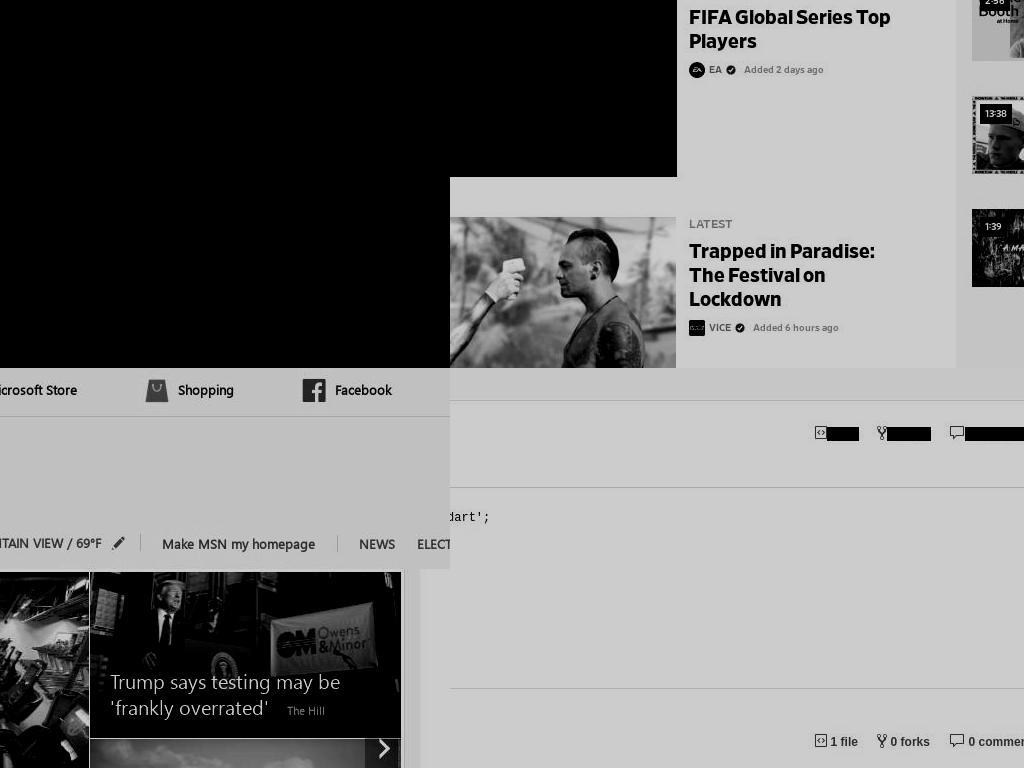button: (89, 572, 401, 739), (450, 0, 677, 177), (450, 217, 677, 368), (143, 368, 291, 412), (300, 368, 448, 412), (0, 368, 134, 412), (971, 96, 1024, 175), (971, 209, 1024, 288), (0, 164, 80, 208), (971, 0, 1024, 61), (0, 534, 101, 551), (688, 320, 731, 336), (688, 62, 722, 78), (110, 534, 129, 553)
heading: (0, 88, 260, 117), (161, 535, 315, 552), (0, 381, 77, 398), (177, 381, 234, 398), (334, 381, 391, 398), (430, 594, 450, 611)
iframe: (0, 421, 450, 511)
image: (0, 0, 450, 368), (89, 572, 401, 738), (450, 0, 676, 177), (450, 217, 676, 368), (971, 96, 1024, 175), (971, 209, 1024, 288), (971, 0, 1024, 61), (688, 62, 705, 78), (688, 320, 705, 336), (725, 65, 736, 75), (734, 323, 745, 333)
link: (688, 242, 875, 310), (688, 8, 891, 52), (358, 535, 395, 552), (416, 535, 450, 552)
text: (450, 0, 677, 177), (109, 667, 340, 721), (450, 628, 1024, 648), (0, 120, 260, 153), (0, 534, 76, 551), (0, 176, 44, 196), (965, 427, 1024, 441), (965, 735, 1024, 749), (979, 104, 1012, 125), (887, 427, 931, 441), (887, 735, 931, 749), (979, 217, 1007, 238), (286, 703, 325, 718), (784, 323, 839, 333), (688, 218, 733, 230), (775, 65, 824, 75), (827, 427, 859, 441), (827, 735, 859, 749), (75, 534, 101, 551), (708, 320, 731, 336), (979, 0, 1010, 11), (743, 65, 776, 75), (752, 323, 785, 333), (708, 62, 722, 78), (483, 511, 491, 525)
